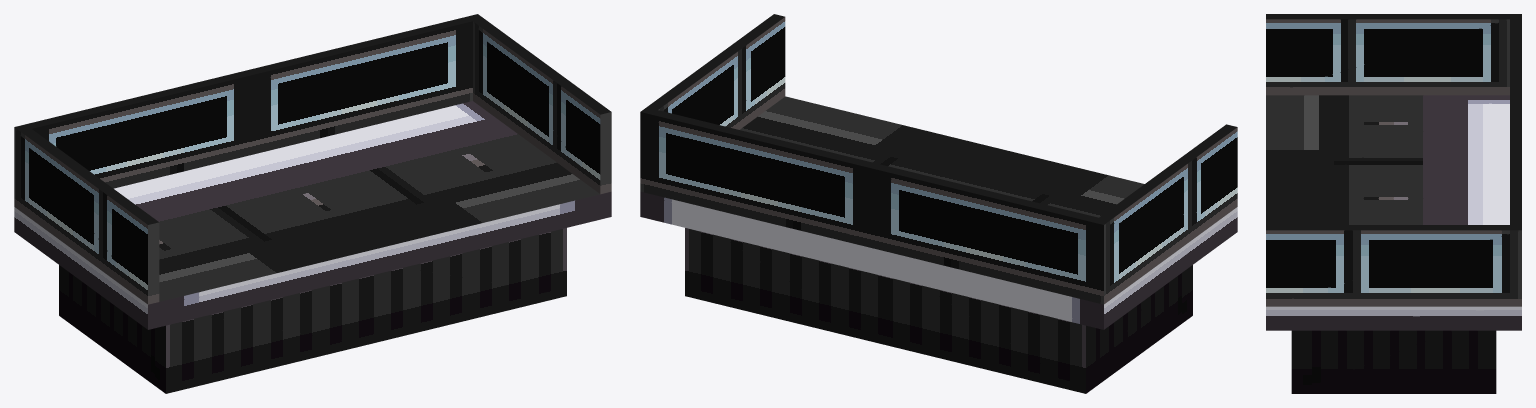
3 views of the same model, side by side, from view 1: azimuth 30°, elevation 25°; view 2: azimuth 150°, elevation 25°; view 3: azimuth 270°, elevation 25° (orthographic). The views are drawn at different scales.
Parts seen in each view (by area): view 1: 3873kg3case01; view 2: 3873kg3case01; view 3: 3873kg3case01.
Boxes of the visible parts, <box> form: 3873kg3case01: <box>14,14,611,393</box>; 3873kg3case01: <box>640,14,1237,393</box>; 3873kg3case01: <box>1266,14,1521,393</box>.
Bounding box in the file's own units: 2 × 0.7683 × 1.
3 materials, 3 textured.
